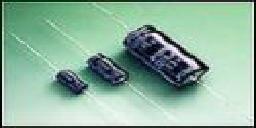Electrolytic Capacitor: (122, 18, 224, 94), (88, 45, 134, 88), (53, 65, 89, 98)
